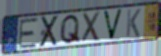E: (18, 16, 40, 50)
K: (125, 8, 142, 38)
Q: (58, 13, 81, 46)
V: (102, 9, 124, 42)
X: (38, 14, 61, 49), (81, 10, 102, 44)
